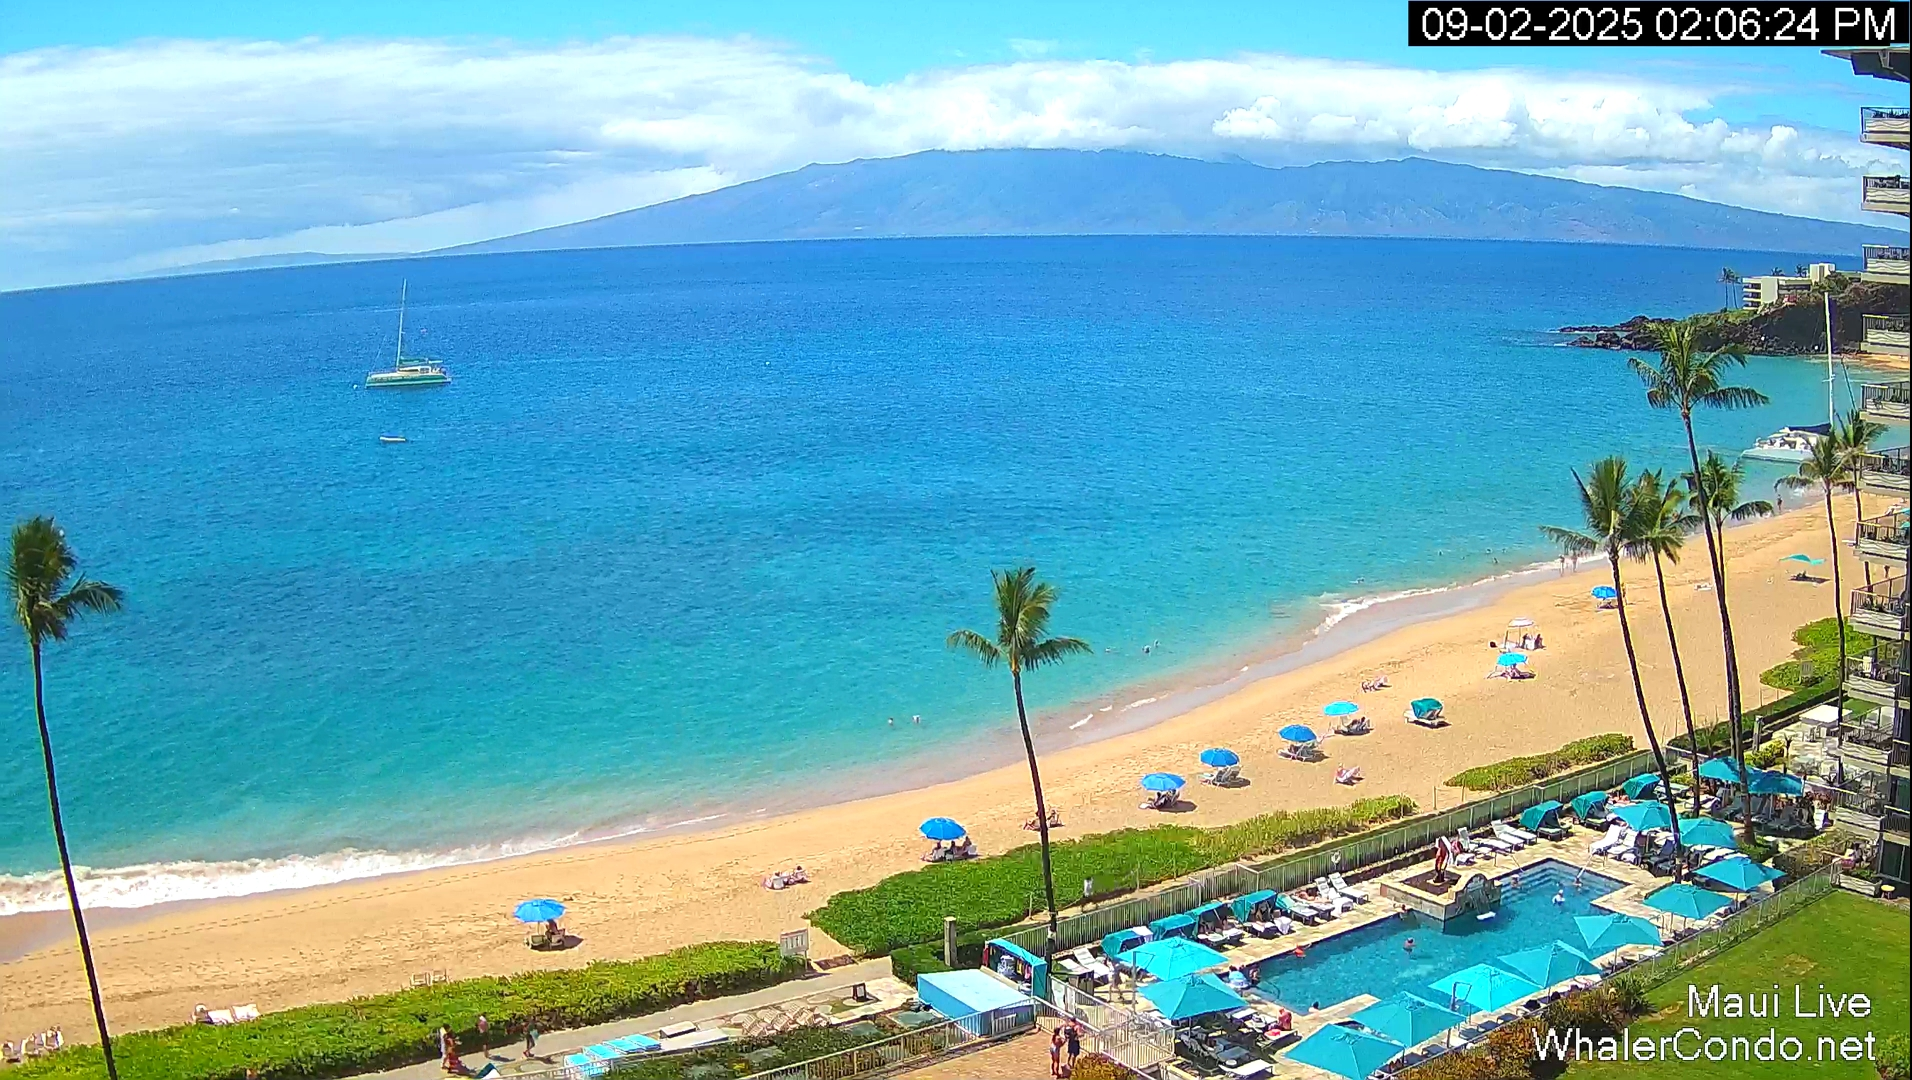boat: (364, 278, 451, 389), (1504, 617, 1539, 640), (1788, 570, 1831, 588), (379, 434, 407, 443)
person: (1049, 1026, 1066, 1077), (440, 1023, 457, 1071), (1065, 1019, 1081, 1069), (477, 1015, 491, 1059), (524, 1020, 538, 1057), (1277, 1007, 1292, 1031), (931, 841, 945, 861), (945, 840, 956, 862), (961, 836, 972, 857), (1552, 889, 1565, 906), (1536, 633, 1547, 650), (1571, 552, 1579, 572), (1558, 554, 1565, 576), (912, 715, 921, 724), (1521, 633, 1532, 640), (1536, 633, 1544, 640)
surfboard: (1070, 714, 1093, 729)
